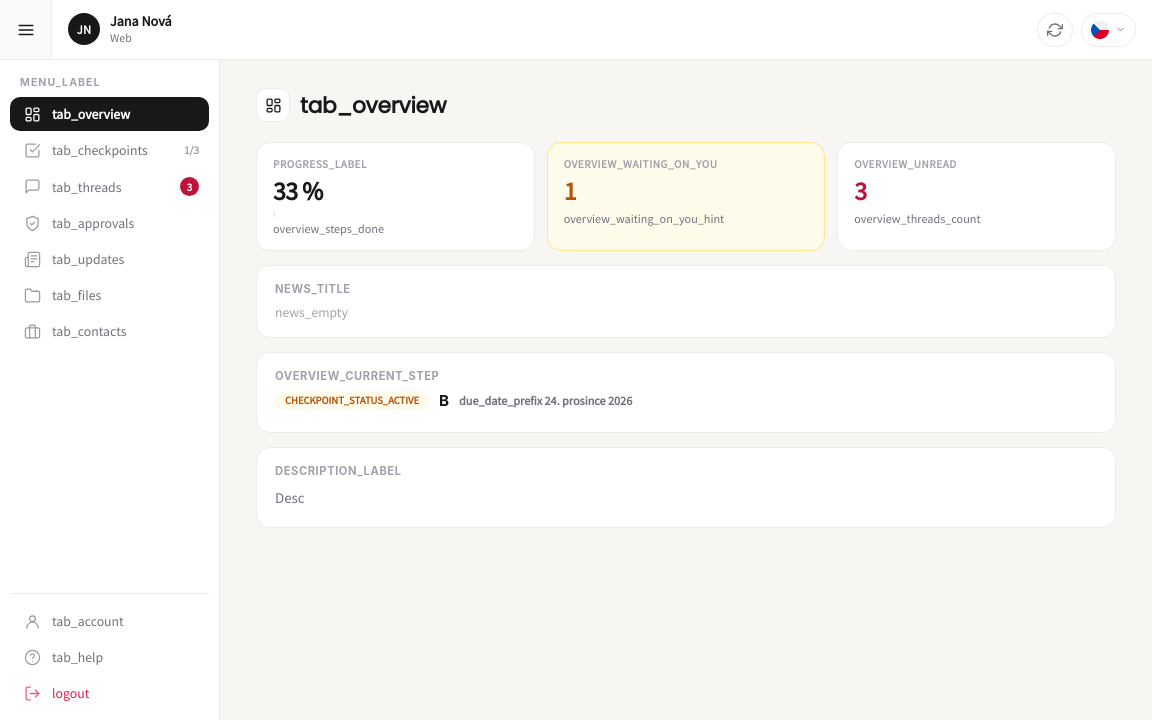
Test case: ProjectPortalComponent › renders the header and the menu like the administration
The image size is (1152, 720).
Expected: the text "JN" is shown, [68,14,100,46]
Expected: the text "Jana Nová" is shown, [110,13,172,31]
Click the button "tab_checkpoints 1/3". click: (110, 150)
box: [10,133,209,167]
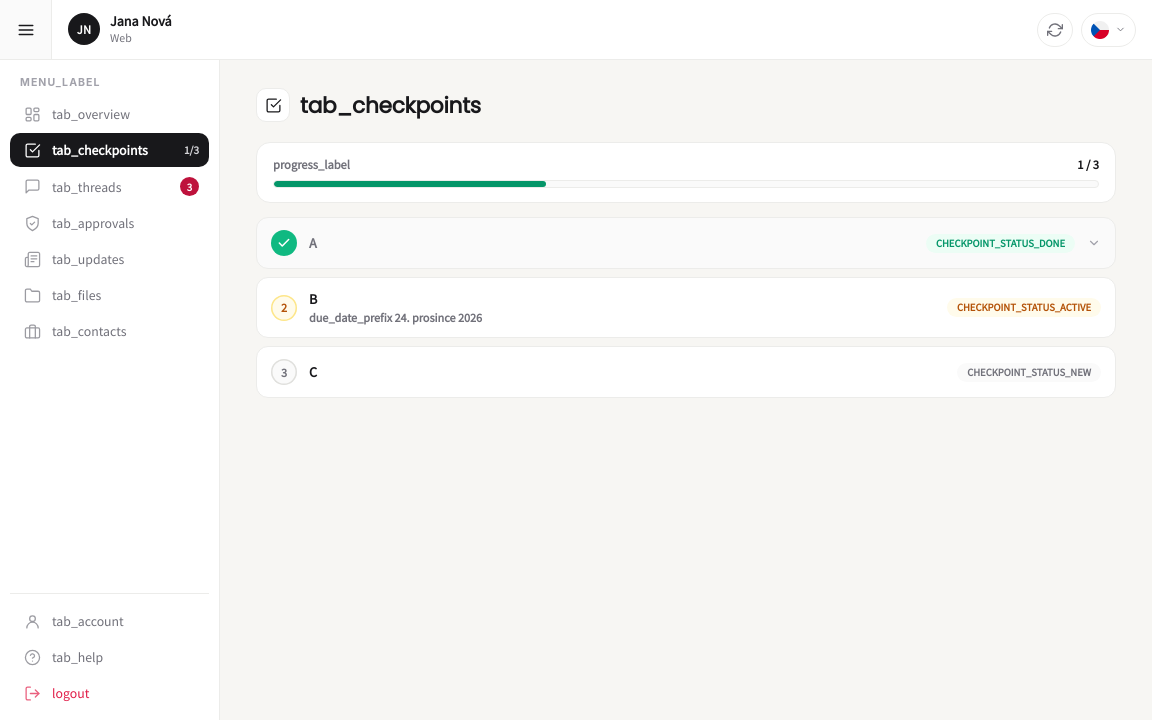
Expected: the heading "tab_checkpoints" is shown, [300,88,481,122]
